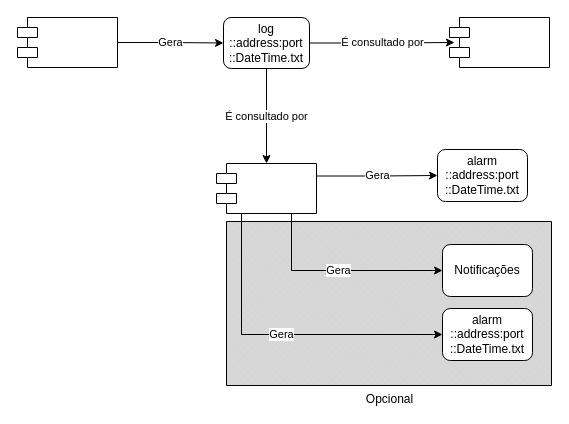
Image size: 569x424. Some labels were removed from this diagram. The shapes that lost their labels are listed below. From the top down, each one's centre as x and y in pixels, then its label:
At (x=67, y=42): "Módulo 1 Monitor".
At (x=499, y=42): "Módulo 2 Analyse".
At (x=266, y=188): "Módulo 3 Alarm".
